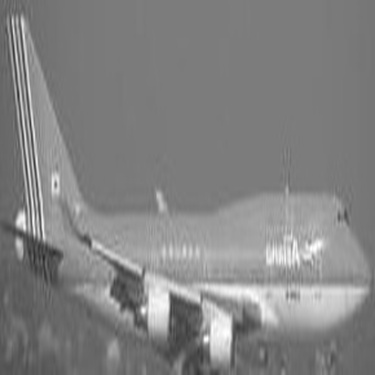airplane: (4, 14, 365, 357)
